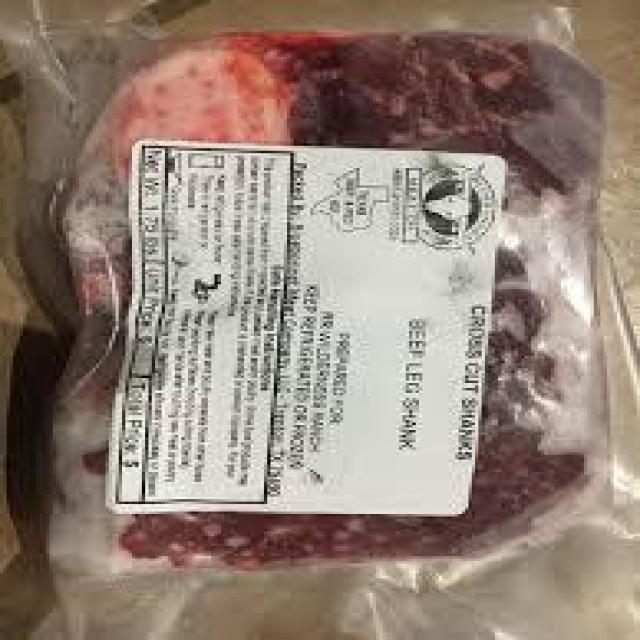beef: (121, 37, 611, 139)
